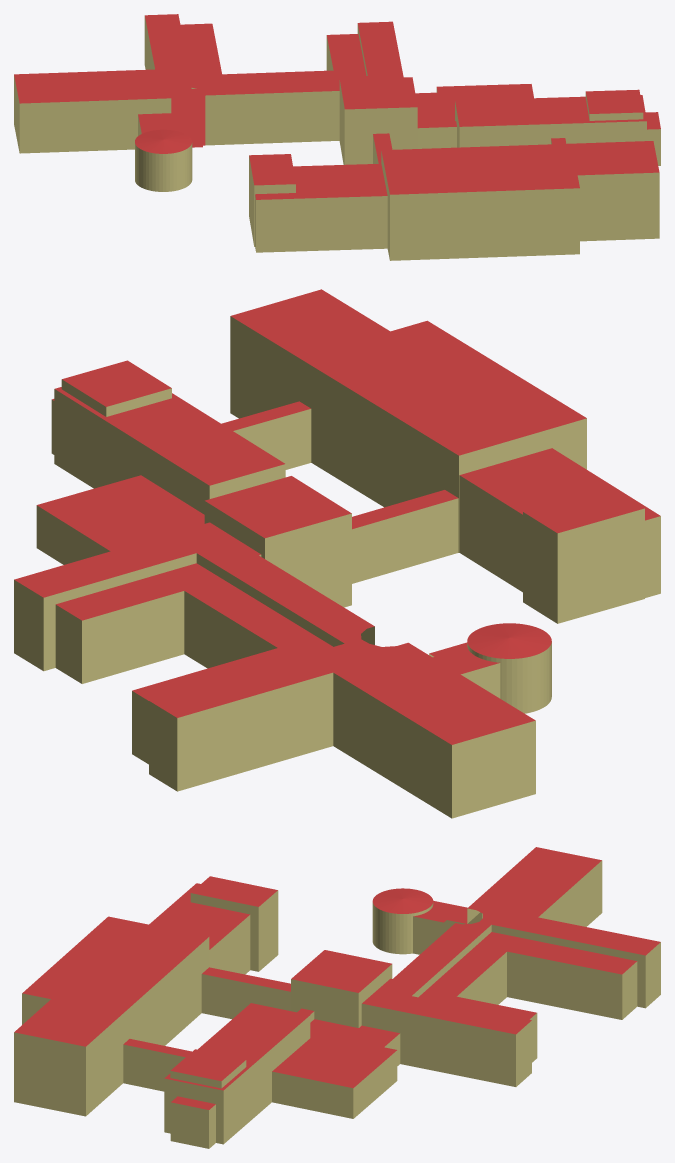
The picture shows the model from 3 angles, top to bottom: view 1: azimuth 30°, elevation 25°; view 2: azimuth 150°, elevation 25°; view 3: azimuth 270°, elevation 25°; orthographic projection. The views are drawn at different scales.
Visible parts, largest first — view 1: group_39, group_24, group_38, group_23, group_42, group_17, group_9, group_6, group_15, group_41, group_26, group_14 (+10 smaller); view 2: group_24, group_23, group_38, group_39, group_18, group_30, group_17, group_9, group_6, group_26, group_15, group_42 (+14 smaller); view 3: group_24, group_23, group_39, group_38, group_18, group_17, group_26, group_9, group_27, group_6, group_15, group_45 (+15 smaller).
Boxes of the visible parts, <box> form: group_39: <box>381,151,659,260</box>; group_24: <box>14,16,367,153</box>; group_38: <box>381,141,659,194</box>; group_23: <box>14,14,403,103</box>; group_42: <box>255,194,387,252</box>; group_17: <box>180,23,366,81</box>; group_9: <box>455,101,646,147</box>; group_6: <box>455,95,646,126</box>; group_15: <box>339,80,417,164</box>; group_41: <box>255,163,387,199</box>; group_26: <box>415,84,533,122</box>; group_14: <box>339,77,417,109</box>; group_24: <box>14,553,535,818</box>; group_23: <box>14,522,535,744</box>; group_38: <box>231,289,586,455</box>; group_39: <box>230,316,586,552</box>; group_18: <box>55,591,277,764</box>; group_30: <box>523,508,644,623</box>; group_17: <box>56,563,332,700</box>; group_9: <box>54,389,285,514</box>; group_6: <box>55,387,284,485</box>; group_26: <box>37,475,204,551</box>; group_15: <box>204,501,351,607</box>; group_42: <box>459,475,660,597</box>; group_24: <box>361,860,660,1086</box>; group_23: <box>362,847,660,1034</box>; group_39: <box>14,937,209,1116</box>; group_38: <box>14,916,208,1046</box>; group_18: <box>457,951,637,1062</box>; group_17: <box>418,932,636,1019</box>; group_26: <box>272,1019,399,1088</box>; group_9: <box>164,1015,310,1144</box>; group_27: <box>272,1033,400,1118</box>; group_6: <box>164,1003,309,1090</box>; group_15: <box>291,964,392,1027</box>; group_45: <box>201,974,290,1018</box>.
Bounding box in the file's own units: 148 × 163 × 19.37.
